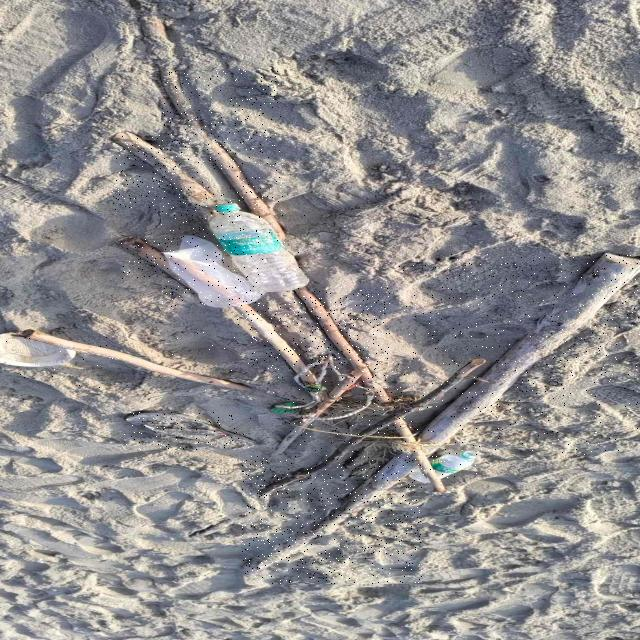biowaste: (399, 254, 640, 455), (243, 456, 422, 583), (162, 69, 283, 242), (16, 330, 250, 391), (294, 286, 390, 402), (360, 360, 486, 434), (270, 370, 362, 456), (112, 133, 213, 209), (260, 438, 361, 498), (235, 304, 306, 375), (119, 238, 176, 279)
other: (124, 412, 255, 449)
paper: (0, 333, 73, 366)
plastic: (208, 204, 308, 292), (163, 235, 263, 307), (430, 451, 480, 478), (410, 470, 427, 482)
